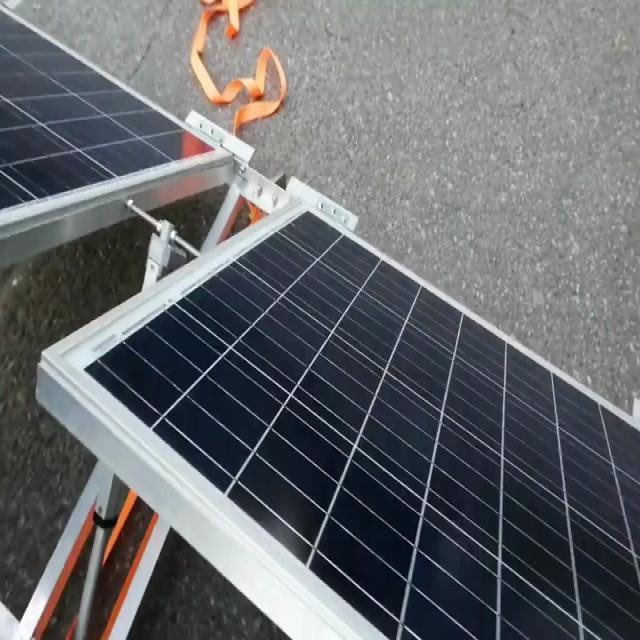Normal Solar Panel: (88, 212, 640, 638), (1, 11, 212, 209)
